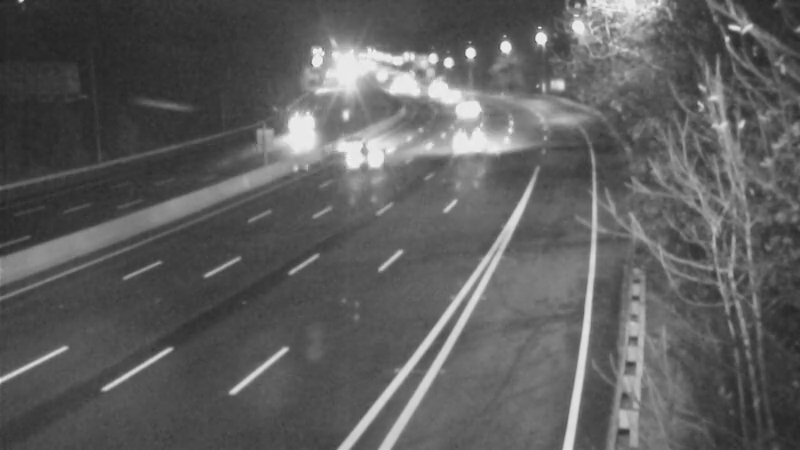vehicle: (328, 116, 408, 196), (411, 65, 461, 115), (424, 70, 474, 120), (441, 81, 491, 131), (440, 116, 490, 166), (321, 120, 371, 170), (281, 97, 331, 147)
